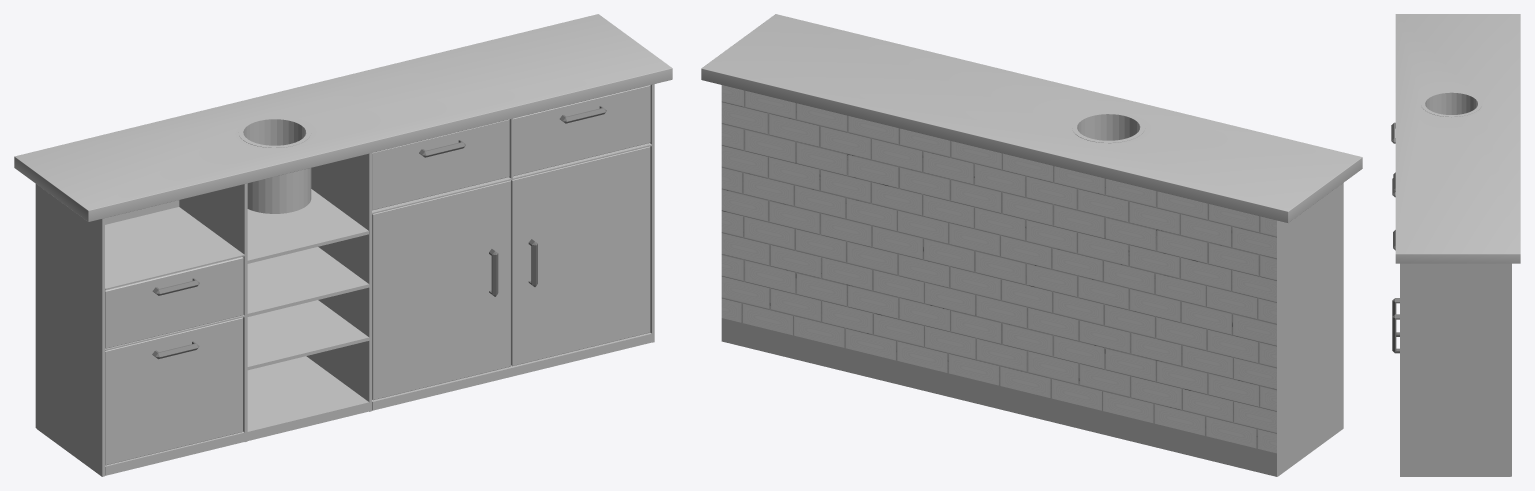
Rendered from counterbar.fbx.
The picture shows the model from 3 angles, left to right: view 1: azimuth 30°, elevation 25°; view 2: azimuth 150°, elevation 25°; view 3: azimuth 270°, elevation 25°; orthographic projection. The views are drawn at different scales.
Parts seen in each view (by area): view 1: counter bar, drawer 6, drawer 5, drawer 2, drawer1, drawer 3, drawer 4; view 2: counter bar; view 3: counter bar, drawer 6.
Part boxes in pixels (x1=…): counter bar: x1=14, y1=14, x2=672, y2=476; drawer 6: x1=511, y1=146, x2=650, y2=366; drawer 5: x1=372, y1=180, x2=510, y2=400; drawer 2: x1=105, y1=317, x2=242, y2=465; drawer1: x1=105, y1=257, x2=243, y2=348; drawer 3: x1=513, y1=85, x2=650, y2=176; drawer 4: x1=372, y1=119, x2=509, y2=210; counter bar: x1=701, y1=14, x2=1362, y2=476; counter bar: x1=1395, y1=14, x2=1520, y2=476; drawer 6: x1=1392, y1=314, x2=1399, y2=353.
Size of the model in its own units: 211 by 94.05 by 47.98.
